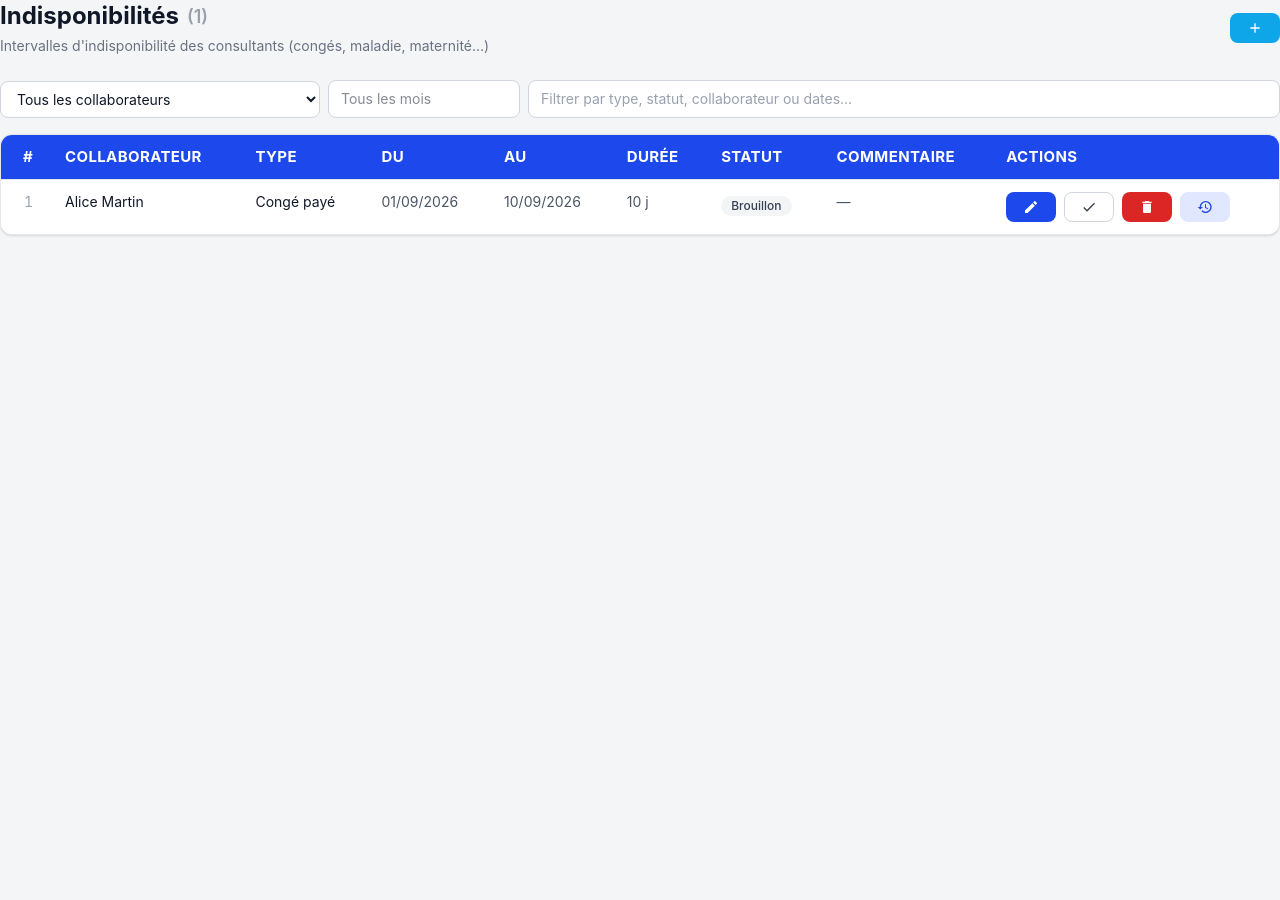
Test: Unavailability › ouvre le formulaire d’édition en cliquant sur une ligne
Step 1. Click the text "Alice Martin" → click(144, 207), box [49, 180, 240, 234]
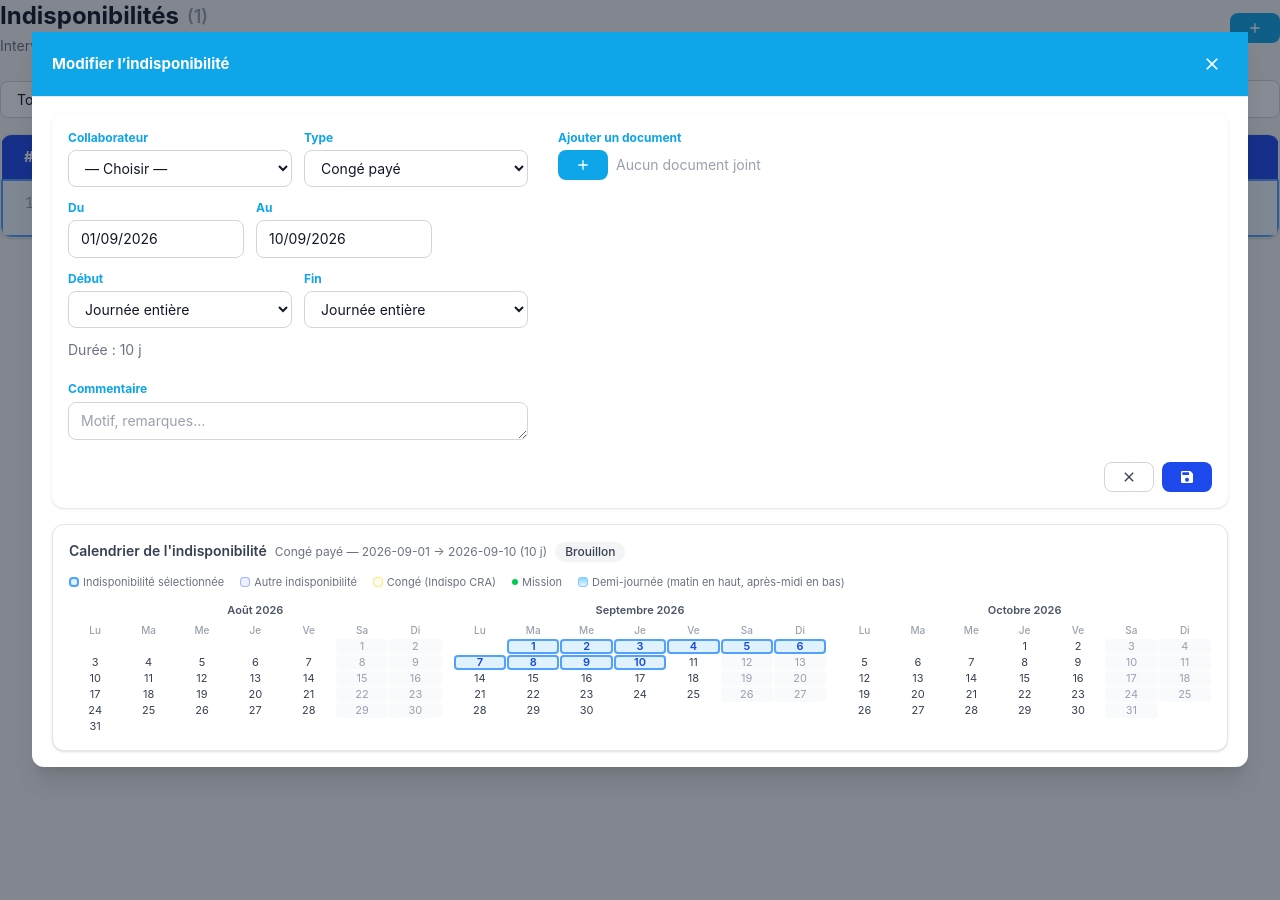
Check: the heading "Modifier l’indisponibilité" is shown, box [52, 53, 230, 75]
Check: the button named "Enregistrer" is shown, box [1162, 462, 1212, 492]
